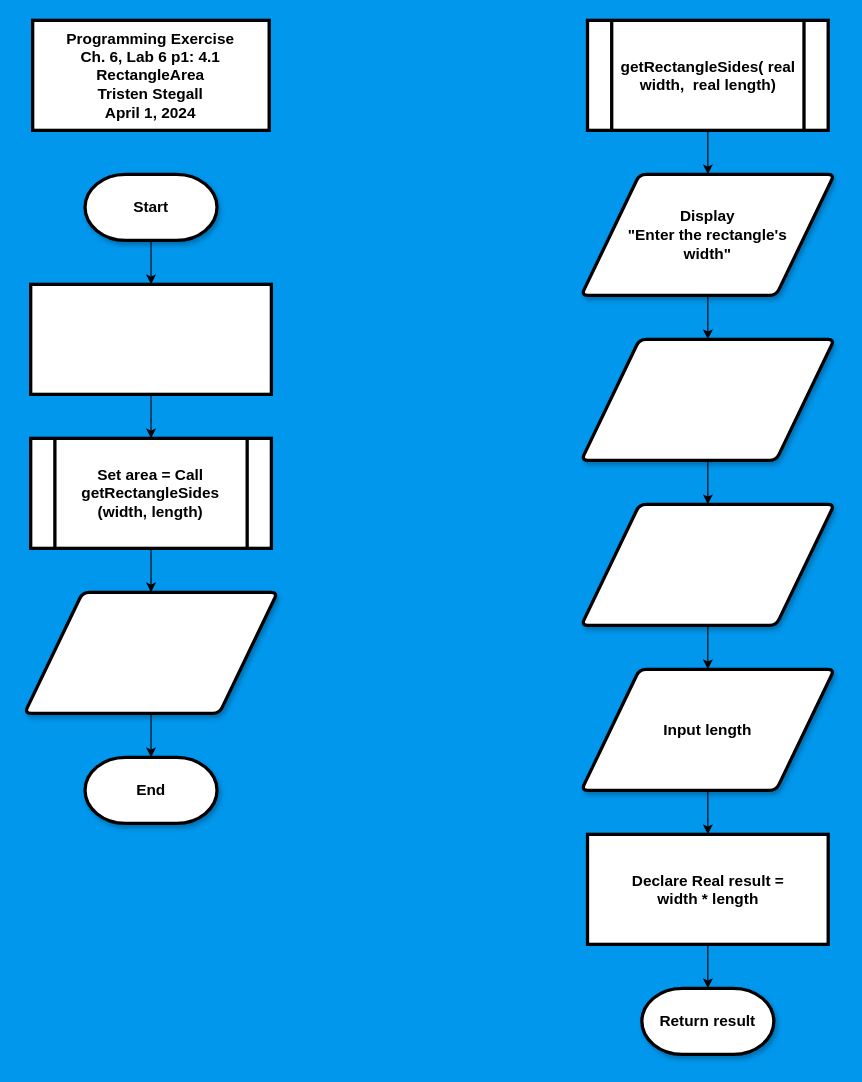
The diagram is 862 pixels wide and 1082 high, and some of its shapes have lost their labels. Each missing label, with the centre of its shape:
Declare Real width, length, area: (150,338)
Display "Enter the rectangle's length": (708,566)
Display "The rectangle's area is", area: (151,654)
Input width: (708,401)
